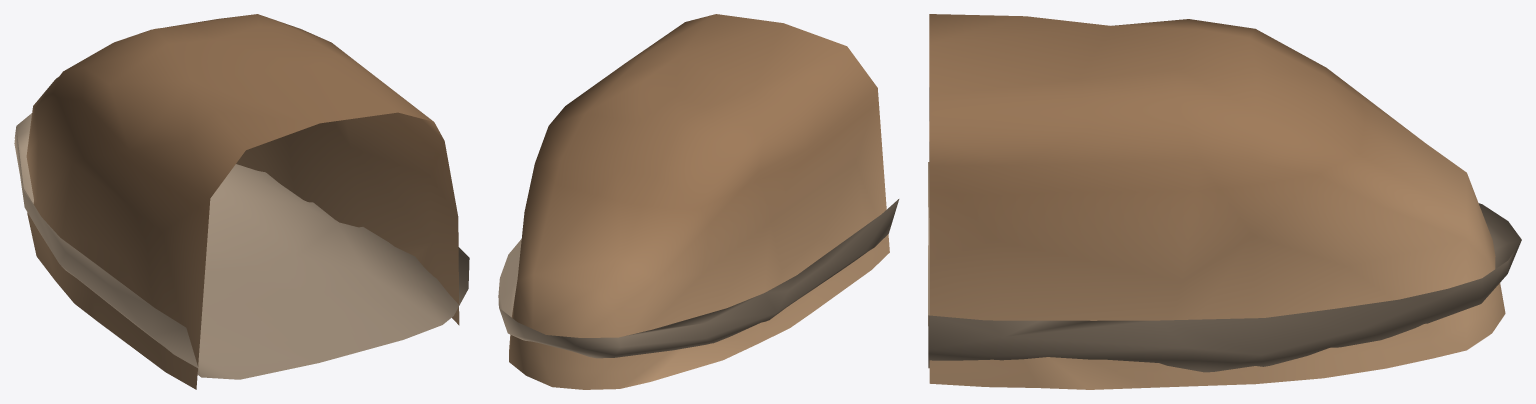
The model's file is Mines Tunel End.glb.
The picture shows the model from 3 angles, left to right: view 1: azimuth 30°, elevation 25°; view 2: azimuth 150°, elevation 25°; view 3: azimuth 270°, elevation 25°; orthographic projection. The views are drawn at different scales.
Parts seen in each view (by area): view 1: Mines Tunel End, Mines Tunel Ground End; view 2: Mines Tunel End, Mines Tunel Ground End; view 3: Mines Tunel End, Mines Tunel Ground End.
Boxes of the visible parts, box(x1,y1,x2,y2) form: Mines Tunel End: box(26, 14, 459, 389); Mines Tunel Ground End: box(14, 113, 469, 379); Mines Tunel End: box(509, 14, 889, 389); Mines Tunel Ground End: box(498, 199, 899, 358); Mines Tunel End: box(929, 14, 1505, 389); Mines Tunel Ground End: box(928, 162, 1521, 372).
Size of what is drawn, in the model's own units: 4.54 by 3.49 by 6.96.
1 material, 1 textured.
